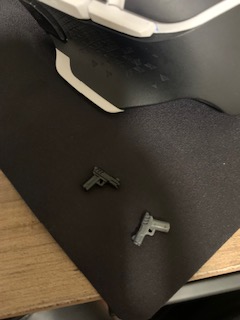pistol: (128, 207, 172, 250), (79, 163, 121, 194)
